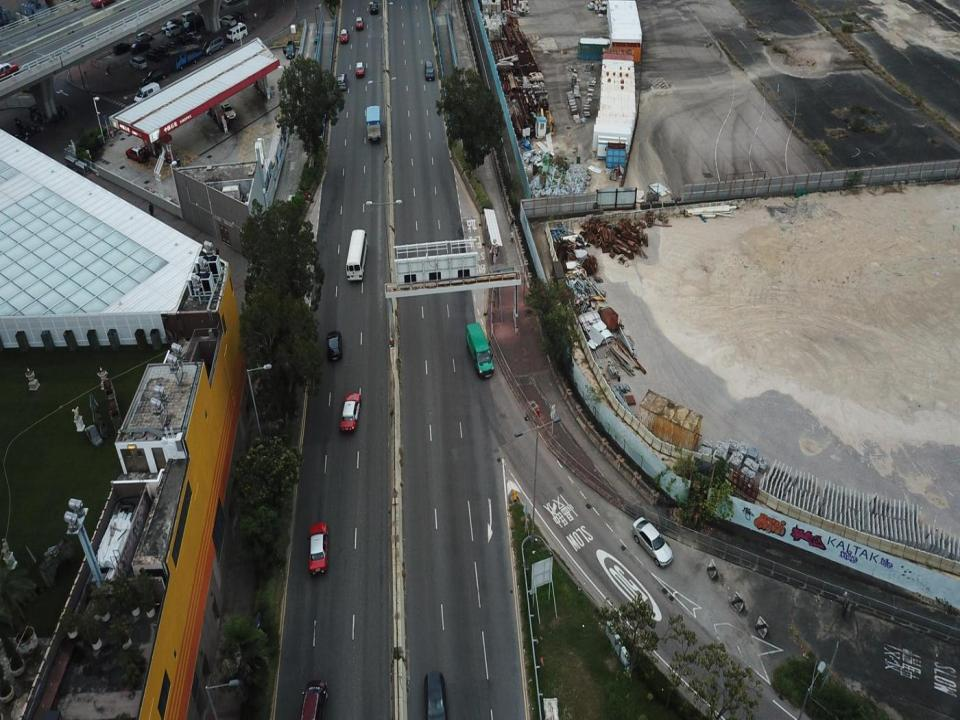bus: (345, 227, 369, 284)
car: (632, 515, 672, 570), (305, 522, 330, 576), (298, 678, 329, 719), (423, 670, 447, 719), (339, 392, 362, 433), (324, 330, 344, 364), (134, 81, 160, 104), (124, 142, 148, 164), (201, 34, 224, 55), (0, 60, 19, 83), (220, 100, 236, 121), (224, 10, 244, 26), (112, 38, 130, 55), (131, 40, 150, 55), (161, 17, 178, 33), (336, 70, 348, 92), (424, 59, 434, 83), (130, 55, 146, 70), (155, 39, 171, 54), (145, 47, 162, 61), (354, 58, 365, 78), (284, 38, 295, 58), (183, 16, 199, 29), (218, 14, 234, 27), (165, 23, 182, 35), (185, 29, 202, 41), (339, 26, 349, 44), (136, 29, 152, 40), (181, 10, 195, 21), (355, 15, 364, 31), (370, 2, 378, 14)
truck: (165, 42, 200, 69), (365, 102, 382, 142)
van: (464, 321, 494, 380), (226, 21, 248, 43)
